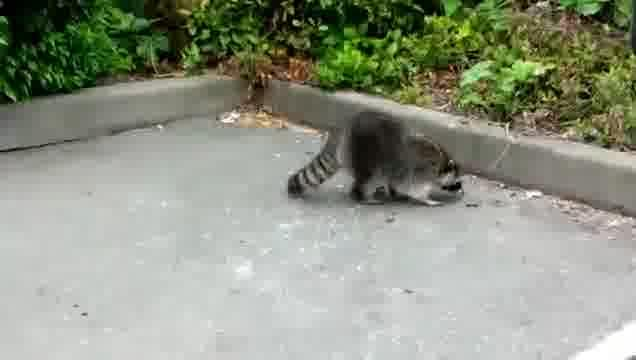raccoon: (287, 110, 467, 210)
